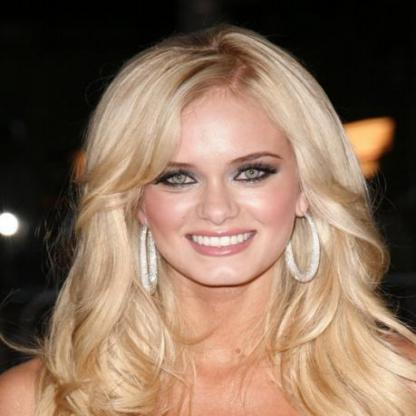long-hair: (34, 290, 387, 366)
